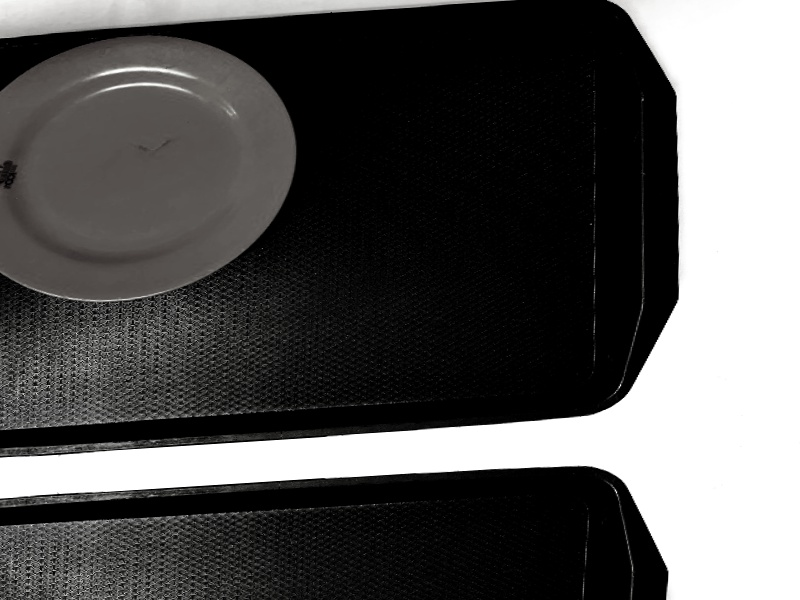dish10: (0, 20, 309, 314)
